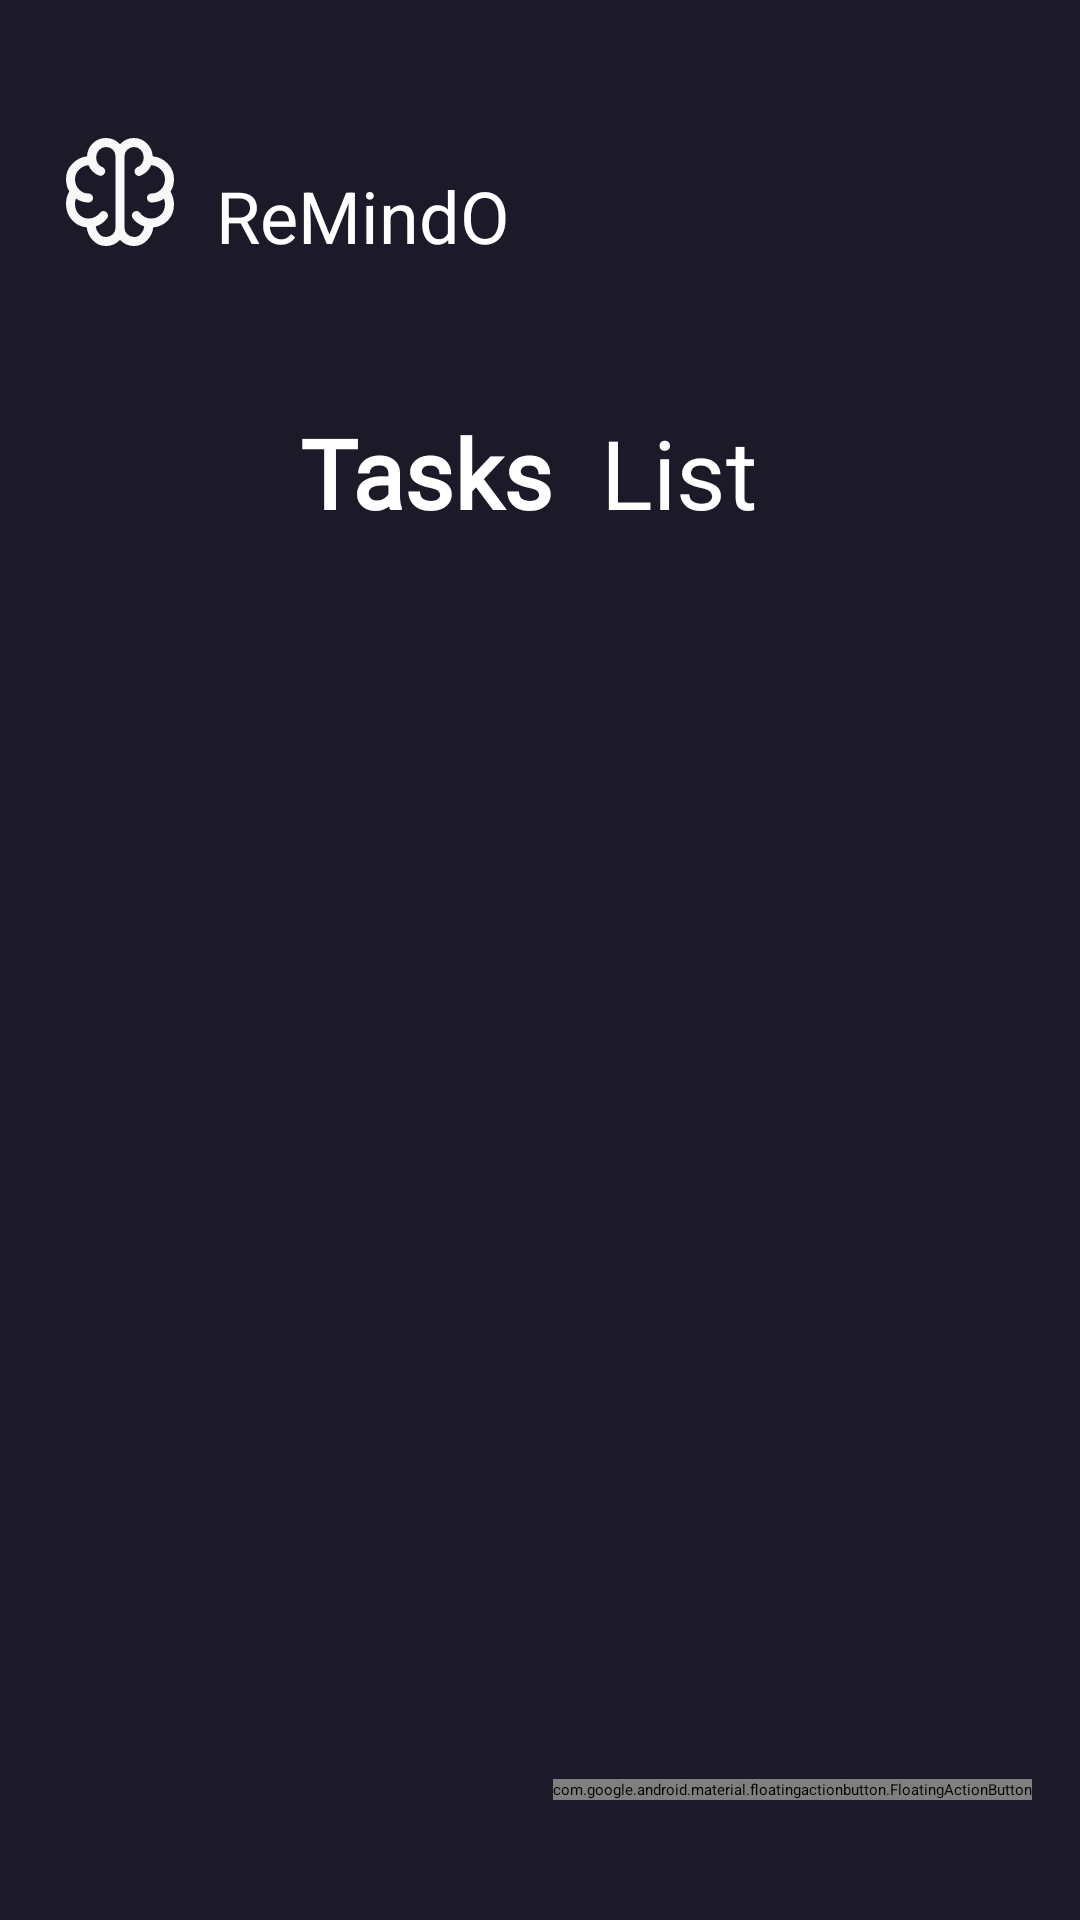

Point at icon controls on the screen. Image size 1080px x 1920px, points as (x=x, y=y).
brain: (x=120, y=192)
